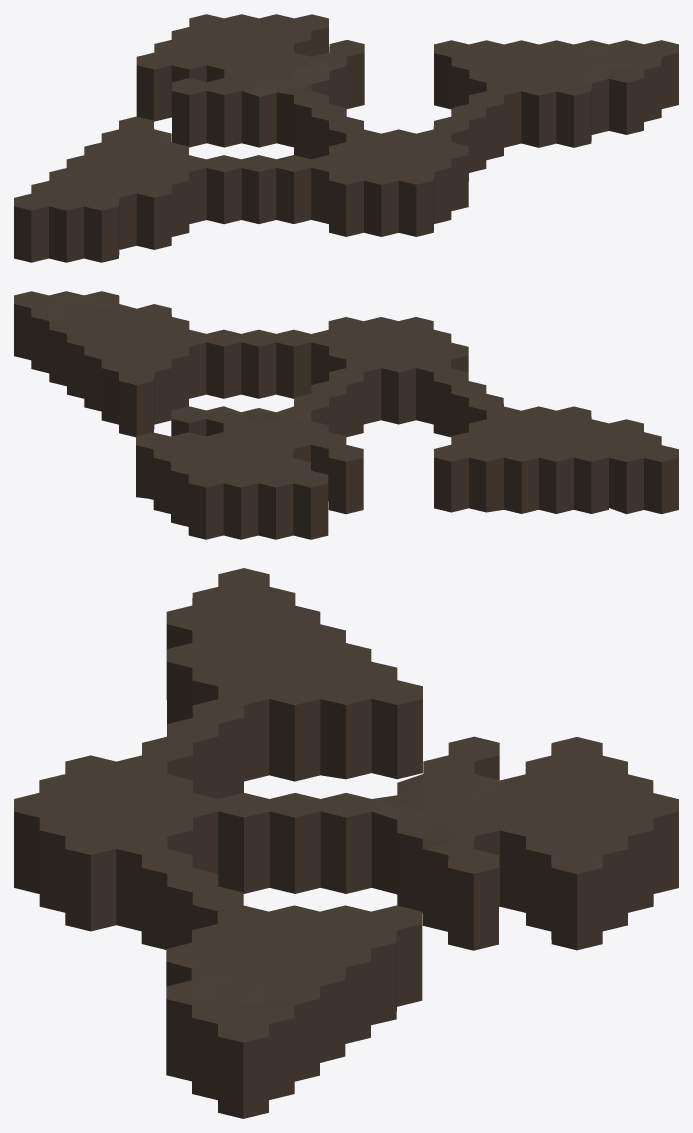
Rendered from Stage1Floor.fbx.
3 views of the same model, one above another, from view 1: azimuth 30°, elevation 25°; view 2: azimuth 150°, elevation 25°; view 3: azimuth 270°, elevation 25° (orthographic). The views are drawn at different scales.
Parts seen in each view (by area): view 1: Floor; view 2: Floor; view 3: Floor.
Part boxes in pixels (left/top/right/bottom): Floor: left=14, top=14, right=678, bottom=262; Floor: left=14, top=291, right=678, bottom=539; Floor: left=14, top=568, right=678, bottom=1118.
Size of the model in its own units: 343 by 26.05 by 203.
